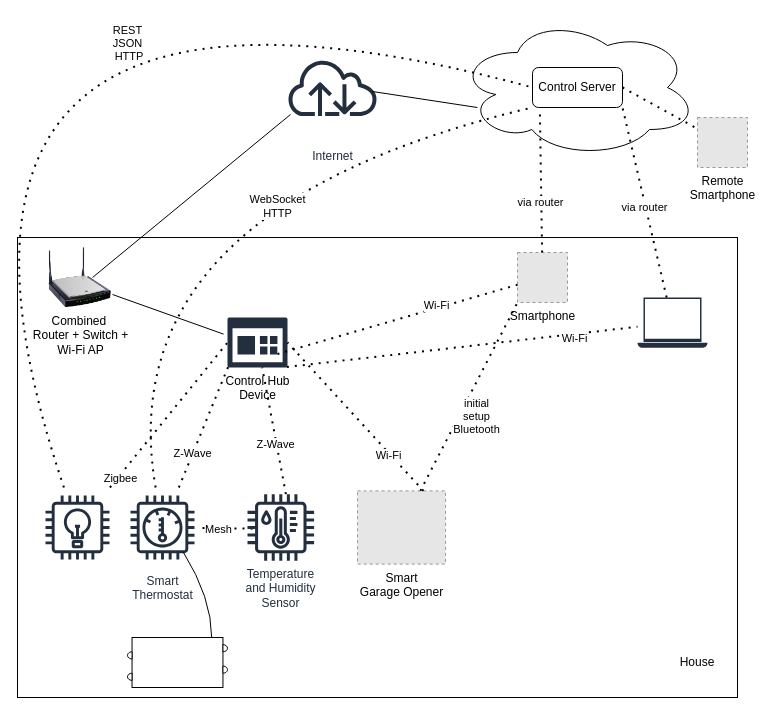
Some shapes in this 772 by 715 pixel diagram are drawn without their labels. Grey dashed boxes stand in for pictures. The box of each missing label's shape, as (x1, y1, x2, y2) in pixels:
Cloud services: (456, 16, 698, 158)
Heating / Cooling: (126, 636, 228, 688)
Laptop: (637, 297, 707, 347)
Smart RGB Lightbulb: (36, 486, 118, 568)
